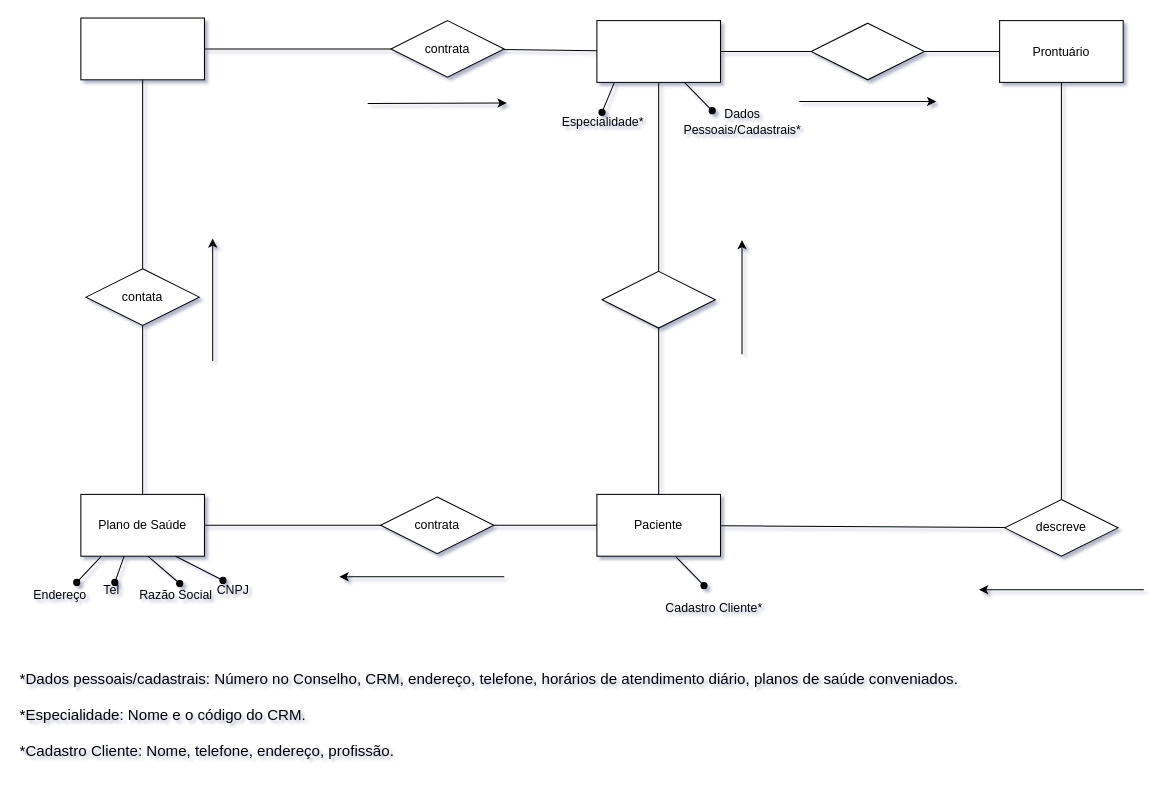
The diagram is 1176 pixels wide and 785 high, and some of its shapes have lost their labels. Each missing label, with the box of its shape:
atende: (601, 270, 715, 328)
Clínica Médica: (80, 17, 204, 80)
gera: (810, 22, 924, 80)
Médico: (596, 20, 720, 82)
